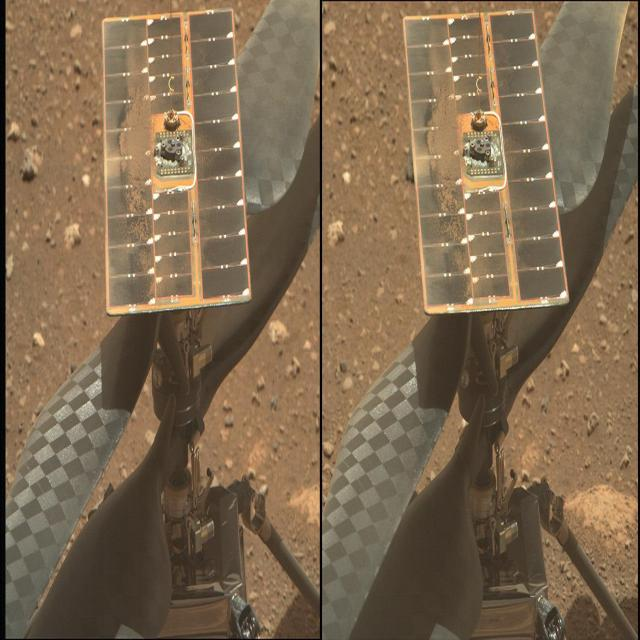dust-solar-panel: (104, 16, 248, 314), (419, 11, 559, 308)
